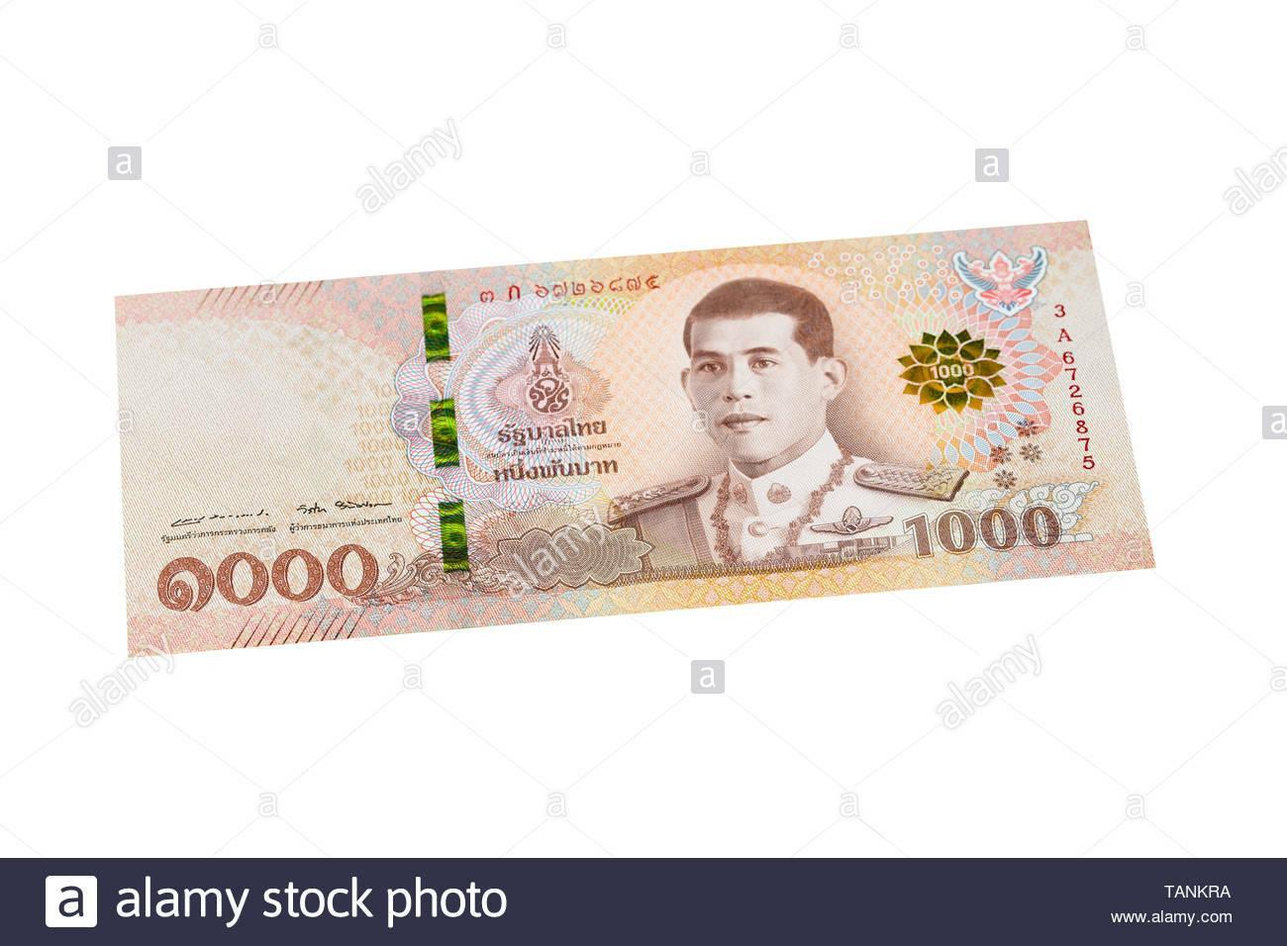1000BahtTai: (111, 220, 1154, 659)
